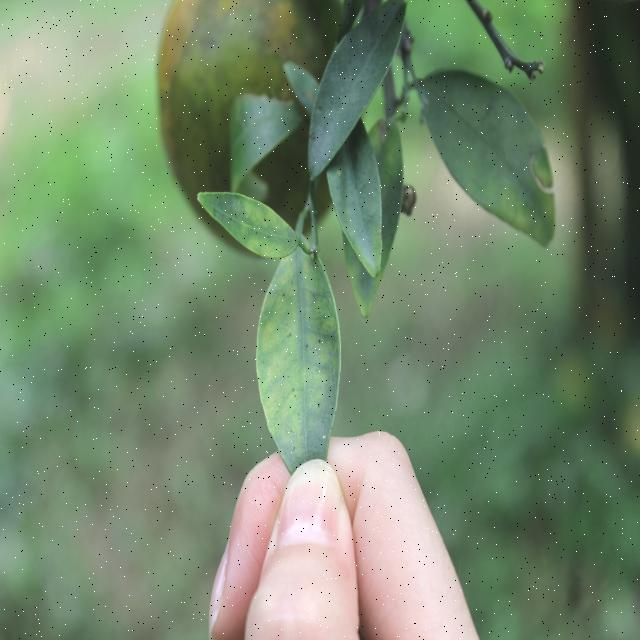blackspot: (269, 262, 335, 462), (211, 191, 285, 260)
